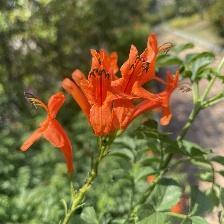honeysuckle: (70, 42, 180, 135)
